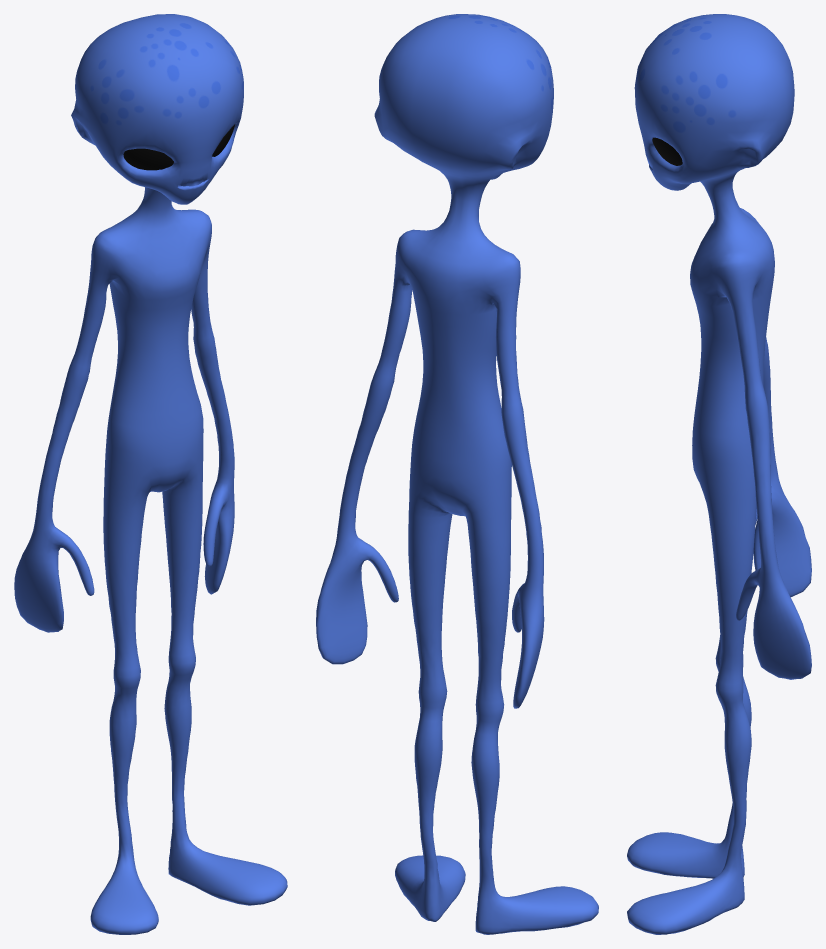
File: alienREAL.obj
3 renders of one model, left to right at view 1: azimuth 30°, elevation 25°; view 2: azimuth 150°, elevation 25°; view 3: azimuth 270°, elevation 25°, orthographic. The views are drawn at different scales.
Parts seen in each view (by area): view 1: group2 polySurface1, group2 kaedim_mesh_1FBXASC046001; view 2: group2 polySurface1; view 3: group2 polySurface1, kaedim_mesh_1 group2.
Boxes of the visible parts, x1,y1,x2,y2 form: group2 polySurface1: [14, 14, 287, 934]; group2 kaedim_mesh_1FBXASC046001: [123, 148, 173, 170]; group2 polySurface1: [316, 14, 598, 934]; group2 polySurface1: [627, 14, 811, 934]; kaedim_mesh_1 group2: [652, 137, 682, 165].
Size of the model in its own units: 4.12 by 16.42 by 3.17.
2 materials, 1 textured.
